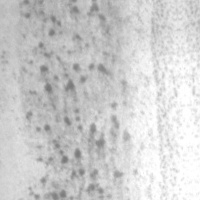pitted_surface: (16, 3, 134, 199), (145, 0, 191, 177)
